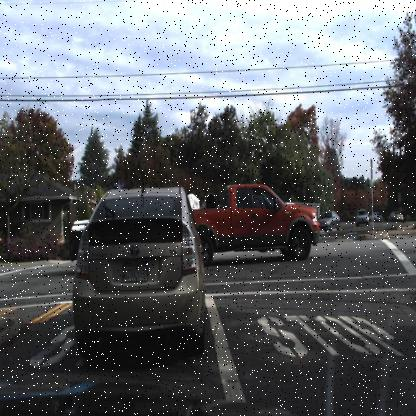car: (73, 177, 208, 359), (192, 182, 324, 268)
